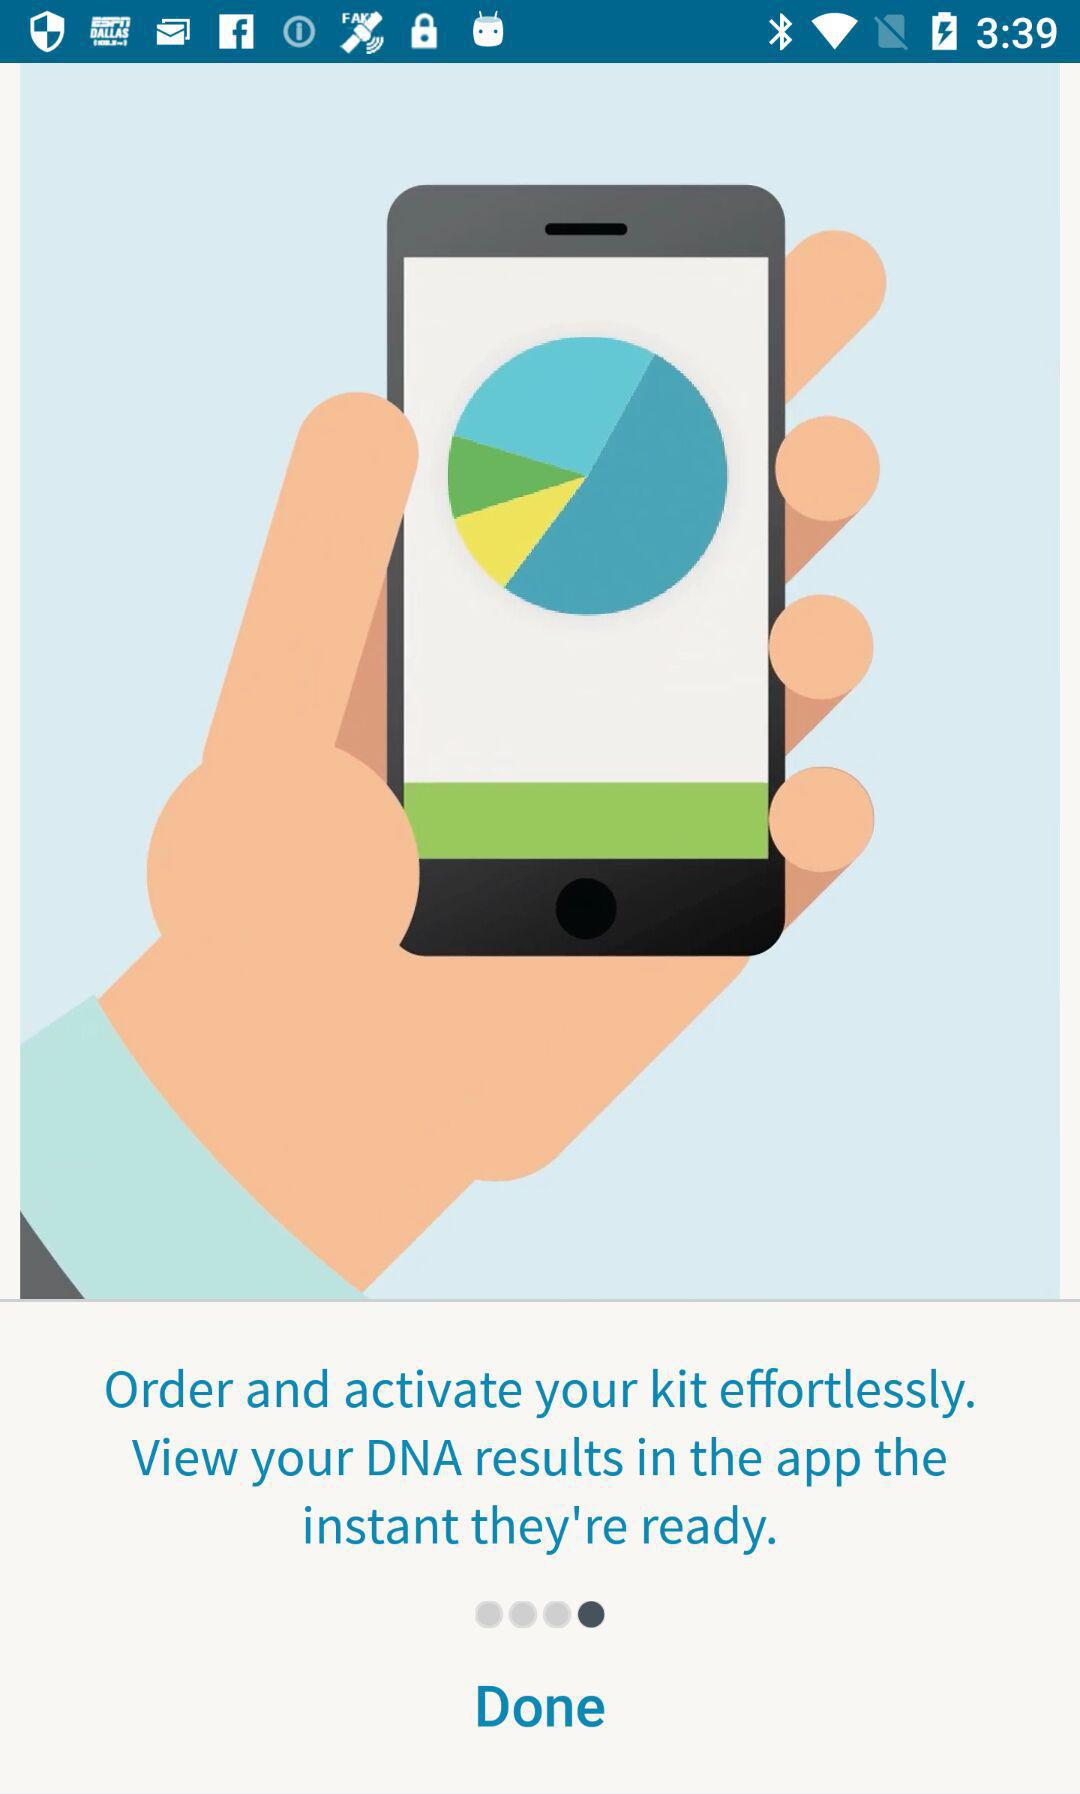Image: (20, 64, 1058, 1299)
PageIndicator: (473, 1599, 607, 1631)
Text: (105, 1367, 975, 1556), (477, 1684, 607, 1729)
UpperTaskBar: (1, 1, 1080, 64)
